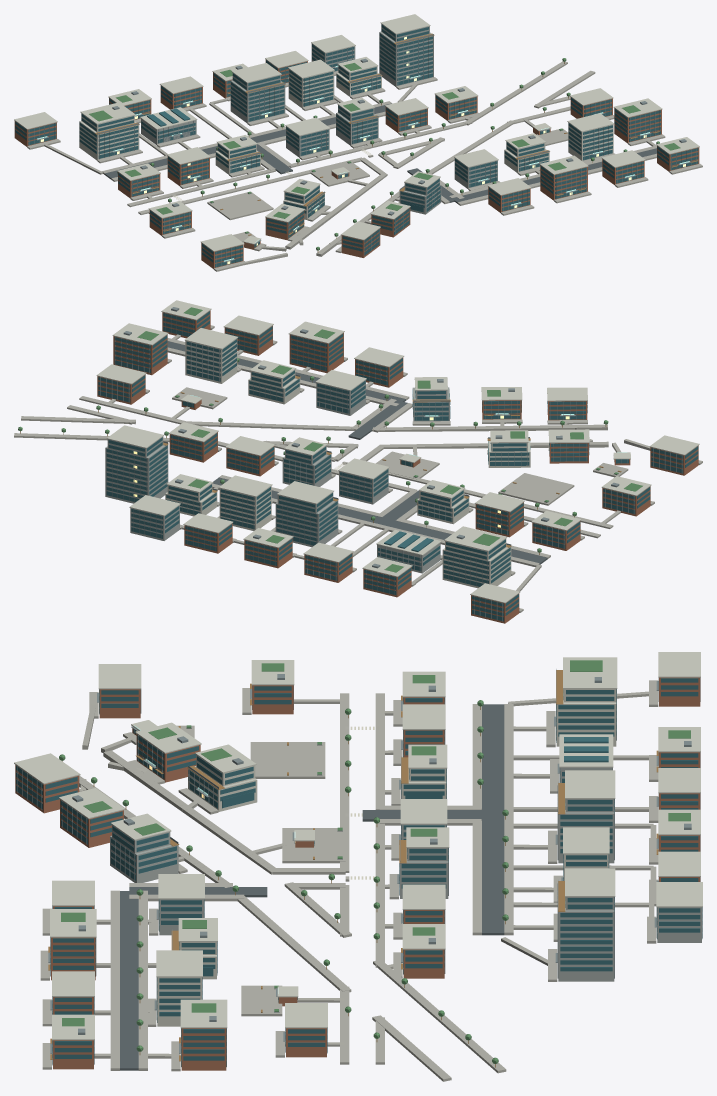
The model's file is Atlantis_Phase6_StartupRow_Review.glb.
The picture shows the model from 3 angles, top to bottom: view 1: azimuth 30°, elevation 25°; view 2: azimuth 150°, elevation 25°; view 3: azimuth 270°, elevation 25°; orthographic projection. The views are drawn at different scales.
Parts seen in each view (by area): view 1: Startup_BigBuildingContext_Architecture, Startup_IncubatorAnchor_Architecture, Startup_SmallBuildingContext_Architecture, Startup_PublicCell_-7_-4_Startup_Paving, Startup_Building_12_Architecture, Startup_PublicCell_-6_-4_Startup_Paving, Startup_Building_29_Architecture, Startup_PublicCell_-5_-4_Startup_Paving, Startup_Building_24_Architecture, Startup_Building_30_Architecture, Startup_OfficeContext_Architecture, Startup_PublicCell_-4_-4_Startup_Paving (+38 smaller); view 2: Startup_BigBuildingContext_Architecture, Startup_IncubatorAnchor_Architecture, Startup_SmallBuildingContext_Architecture, Startup_Building_29_Architecture, Startup_Building_12_Architecture, Startup_Building_24_Architecture, Startup_Building_30_Architecture, Startup_PublicCell_-7_-4_Startup_Paving, Startup_OfficeContext_Architecture, Startup_Building_10_Architecture, Startup_Building_07_Architecture, Startup_Building_27_Architecture (+37 smaller); view 3: Startup_BigBuildingContext_Architecture, Startup_PublicCell_-6_-3_Startup_LocalAsphalt, Startup_PublicCell_-7_-4_Startup_Paving, Startup_IncubatorAnchor_Architecture, Startup_PublicCell_-4_-4_Startup_Paving, Startup_PublicCell_-5_-4_Startup_Paving, Startup_Building_04_Architecture, Startup_SmallBuildingContext_Architecture, Startup_PublicCell_-6_-4_Startup_Paving, Startup_Building_00_Architecture, Startup_PublicCell_-5_-3_Startup_Paving, Startup_Building_30_Architecture (+41 smaller).
Part boxes in pixels (x1,y1,x2,y2): Startup_BigBuildingContext_Architecture: (379,14,434,86); Startup_IncubatorAnchor_Architecture: (79,102,139,160); Startup_SmallBuildingContext_Architecture: (230,63,285,122); Startup_PublicCell_-7_-4_Startup_Paving: (127,178,273,231); Startup_Building_12_Architecture: (288,59,334,108); Startup_PublicCell_-6_-4_Startup_Paving: (220,152,369,192); Startup_Building_29_Architecture: (567,113,614,160); Startup_PublicCell_-5_-4_Startup_Paving: (299,133,454,186); Startup_Building_24_Architecture: (539,155,588,200); Startup_Building_30_Architecture: (613,98,662,143); Startup_OfficeContext_Architecture: (336,97,378,145); Startup_PublicCell_-4_-4_Startup_Paving: (398,98,568,156); Startup_BigBuildingContext_Architecture: (105,425,168,503); Startup_IncubatorAnchor_Architecture: (442,526,511,588); Startup_SmallBuildingContext_Architecture: (275,481,338,547); Startup_Building_29_Architecture: (185,328,238,383); Startup_Building_12_Architecture: (218,475,272,530); Startup_Building_24_Architecture: (288,321,344,373); Startup_Building_30_Architecture: (112,323,168,375); Startup_PublicCell_-7_-4_Startup_Paving: (498,473,620,540); Startup_OfficeContext_Architecture: (282,437,331,486); Startup_Building_10_Architecture: (376,529,441,573); Startup_Building_07_Architecture: (338,458,389,504); Startup_Building_27_Architecture: (315,370,366,415); Startup_BigBuildingContext_Architecture: (555,868,615,981); Startup_PublicCell_-6_-3_Startup_LocalAsphalt: (482,704,504,935); Startup_PublicCell_-7_-4_Startup_Paving: (250,693,402,778); Startup_IncubatorAnchor_Architecture: (554,657,617,746); Startup_PublicCell_-4_-4_Startup_Paving: (241,912,429,1016); Startup_PublicCell_-5_-4_Startup_Paving: (245,834,400,928); Startup_Building_04_Architecture: (110,813,179,882); Startup_SmallBuildingContext_Architecture: (555,770,615,863); Startup_PublicCell_-6_-4_Startup_Paving: (282,766,400,863); Startup_Building_00_Architecture: (187,744,257,811); Startup_PublicCell_-5_-3_Startup_Paving: (472,830,653,925); Startup_Building_30_Architecture: (179,999,227,1070).
Size of the model in its own units: 507 by 50 by 369.
